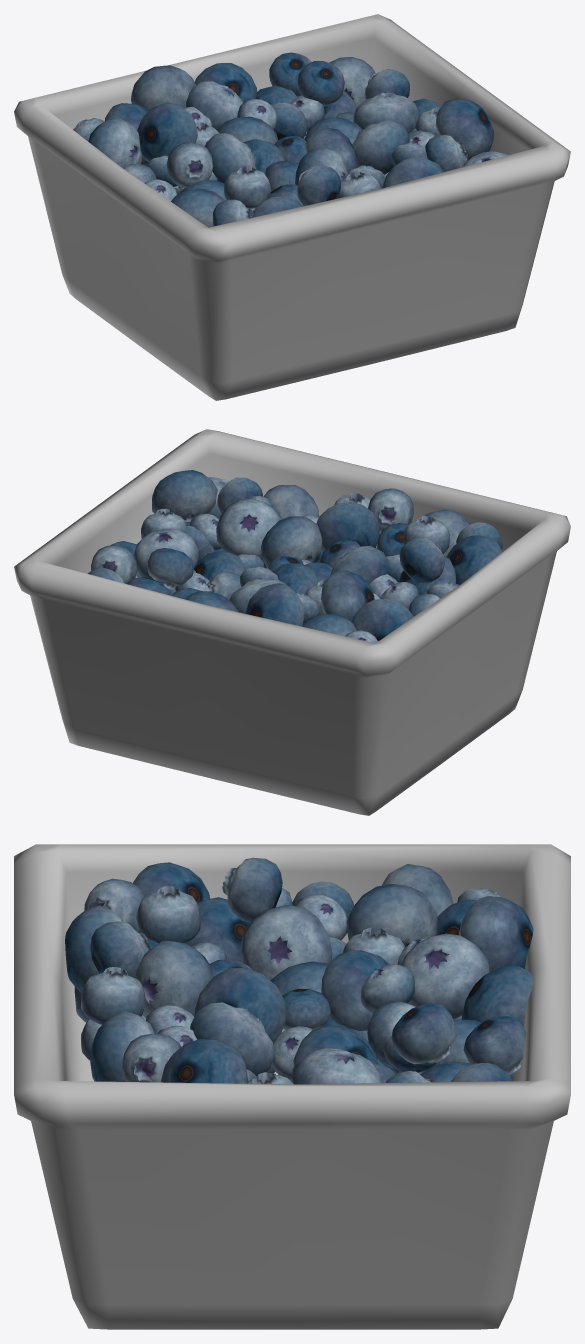
Rendered from Blueberry.fbx.
The picture shows the model from 3 angles, top to bottom: view 1: azimuth 30°, elevation 25°; view 2: azimuth 150°, elevation 25°; view 3: azimuth 270°, elevation 25°; orthographic projection. The views are drawn at different scales.
Visible parts, largest first — view 1: pCube3, pCube85, pCube74, pCube87, pCube88, pCube107, pCube10, pCube60, pCube61, pCube72, pCube78, pCube79 (+25 smaller); view 2: pCube3, pCube88, pCube74, pCube64, pCube66, pCube85, pCube87, pCube61, pCube107, pCube100, pCube10, pCube72 (+20 smaller); view 3: pCube3, pCube78, pCube60, pCube66, pCube85, pCube87, pCube64, pCube88, pCube94, pCube74, pCube72, pCube93 (+28 smaller).
Boxes of the visible parts, x1=… form: pCube3: x1=14, y1=14, x2=570, y2=400; pCube85: x1=137, y1=102, x2=197, y2=161; pCube74: x1=435, y1=98, x2=494, y2=160; pCube87: x1=131, y1=65, x2=195, y2=111; pCube88: x1=352, y1=120, x2=409, y2=174; pCube107: x1=88, y1=117, x2=141, y2=167; pCube10: x1=353, y1=92, x2=420, y2=132; pCube60: x1=186, y1=81, x2=243, y2=130; pCube61: x1=166, y1=142, x2=213, y2=188; pCube72: x1=297, y1=61, x2=344, y2=106; pCube78: x1=204, y1=133, x2=255, y2=183; pCube79: x1=224, y1=166, x2=270, y2=208; pCube3: x1=14, y1=429, x2=570, y2=815; pCube88: x1=216, y1=498, x2=281, y2=560; pCube74: x1=152, y1=470, x2=217, y2=523; pCube64: x1=261, y1=516, x2=322, y2=567; pCube66: x1=316, y1=502, x2=379, y2=553; pCube85: x1=321, y1=570, x2=374, y2=621; pCube87: x1=245, y1=583, x2=303, y2=626; pCube61: x1=399, y1=537, x2=444, y2=583; pCube107: x1=351, y1=598, x2=413, y2=641; pCube100: x1=446, y1=535, x2=502, y2=584; pCube10: x1=133, y1=528, x2=199, y2=580; pCube72: x1=147, y1=548, x2=194, y2=590; pCube3: x1=14, y1=844, x2=570, y2=1329; pCube78: x1=240, y1=905, x2=332, y2=980; pCube60: x1=401, y1=933, x2=489, y2=1019; pCube66: x1=135, y1=940, x2=213, y2=1019; pCube85: x1=346, y1=883, x2=438, y2=946; pCube87: x1=459, y1=896, x2=533, y2=971; pCube64: x1=194, y1=967, x2=285, y2=1041; pCube88: x1=190, y1=1002, x2=274, y2=1076; pCube94: x1=321, y1=950, x2=389, y2=1030; pCube74: x1=161, y1=1038, x2=248, y2=1083; pCube72: x1=391, y1=1003, x2=456, y2=1064; pCube93: x1=461, y1=966, x2=534, y2=1027.
Bounding box in the file's own units: 20.55 × 10.8 × 18.78.
Materials: 2 (1 with a texture image).
